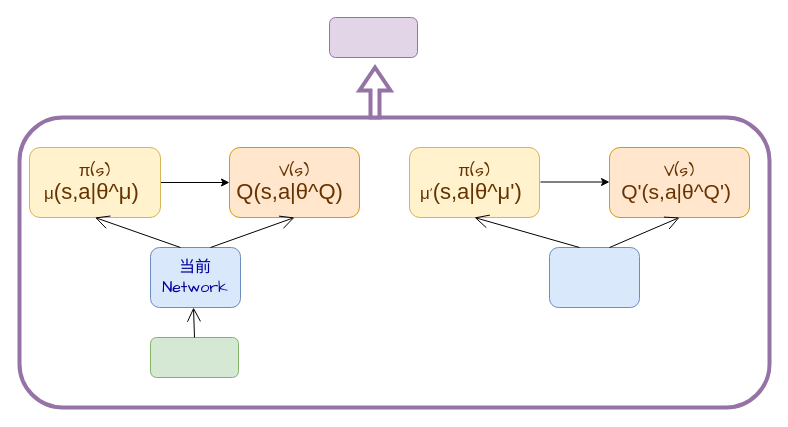
Image size: 788x427. Some labels were removed from this diagram. The centre of each missing label's shape, as x and y in pixels:
Input(s): pixel 194 357
Output(a): pixel 373 37
目标 Network: pixel 594 277
